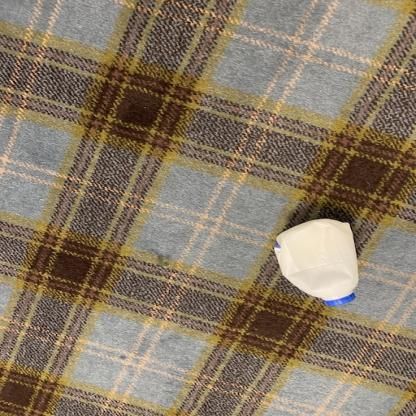trash: (268, 217, 368, 310)
